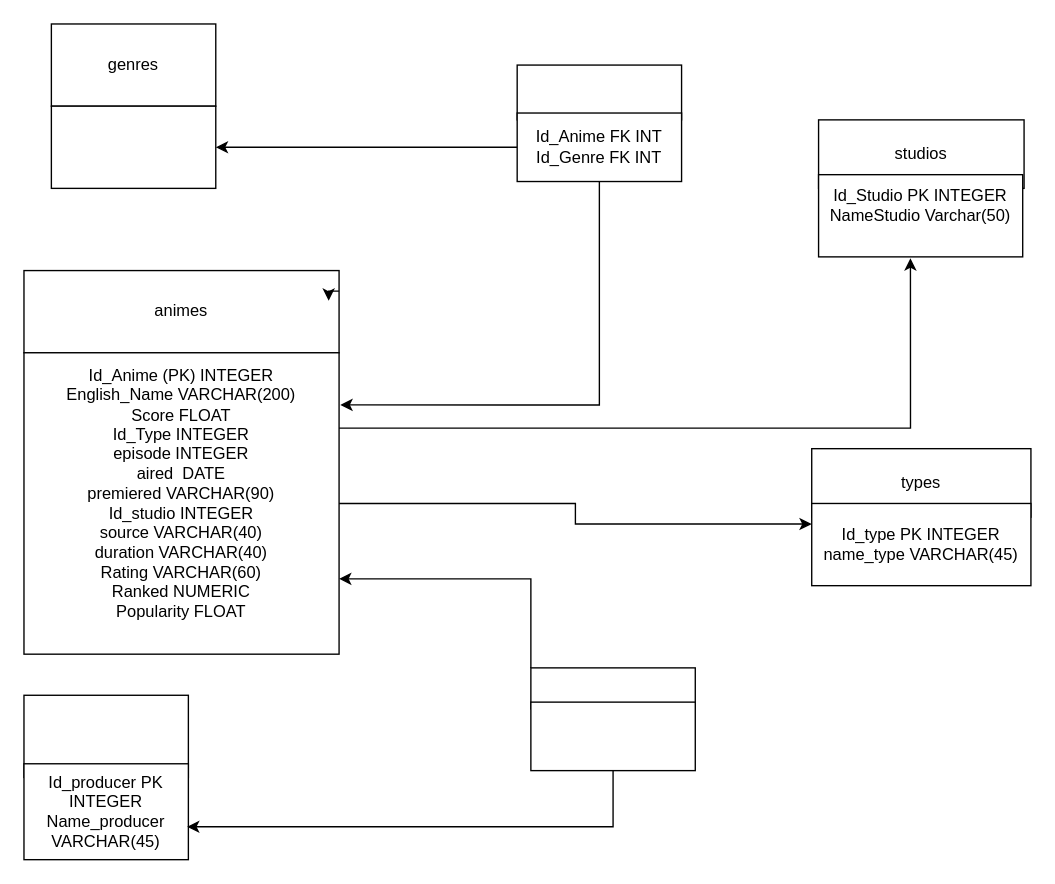
Image size: 1055x884. Some labels were removed from this diagram. Each missing label, with the box of its shape:
Anime_Genre: (516, 64, 682, 120)
Animes_producteurs: (530, 667, 695, 709)
Id_Anime FK INT Id_Producer FK INT: (530, 701, 695, 771)
id_Genre (PK) INT Name_Genre VARCHAR(40): (50, 105, 216, 188)
producteurs: (23, 694, 188, 777)
